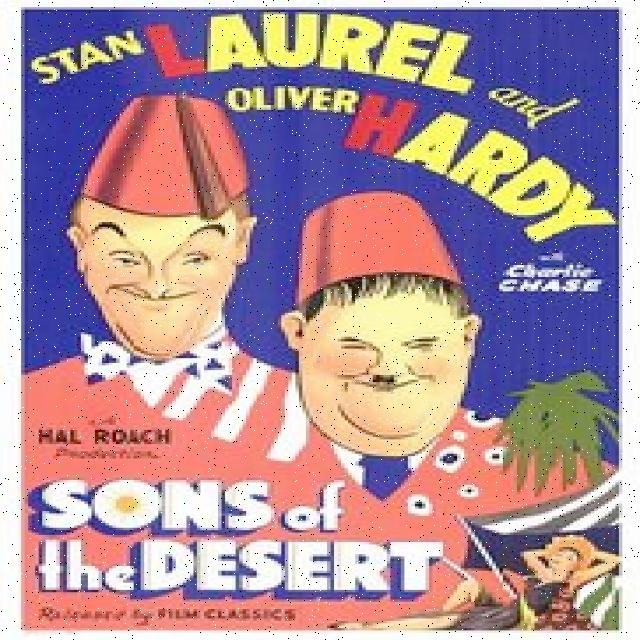movie-judul: (29, 478, 451, 602)
picture: (35, 93, 630, 477), (468, 532, 619, 634)
